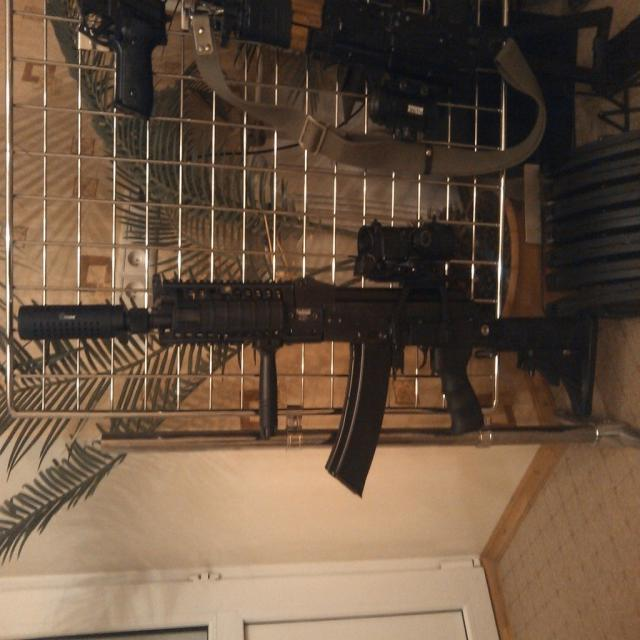firearm: (21, 214, 601, 496)
